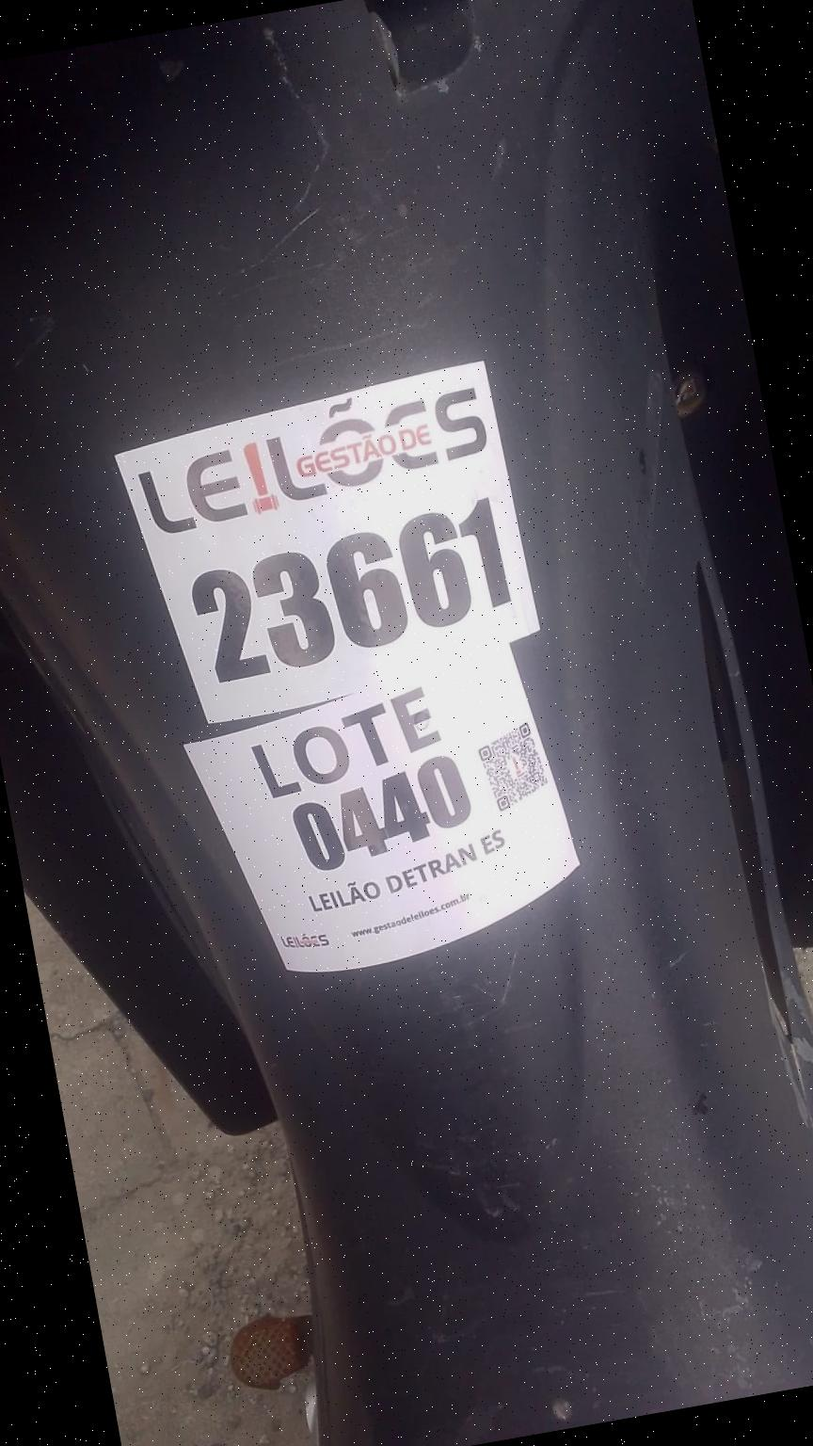Caractere: (179, 487, 526, 697)
